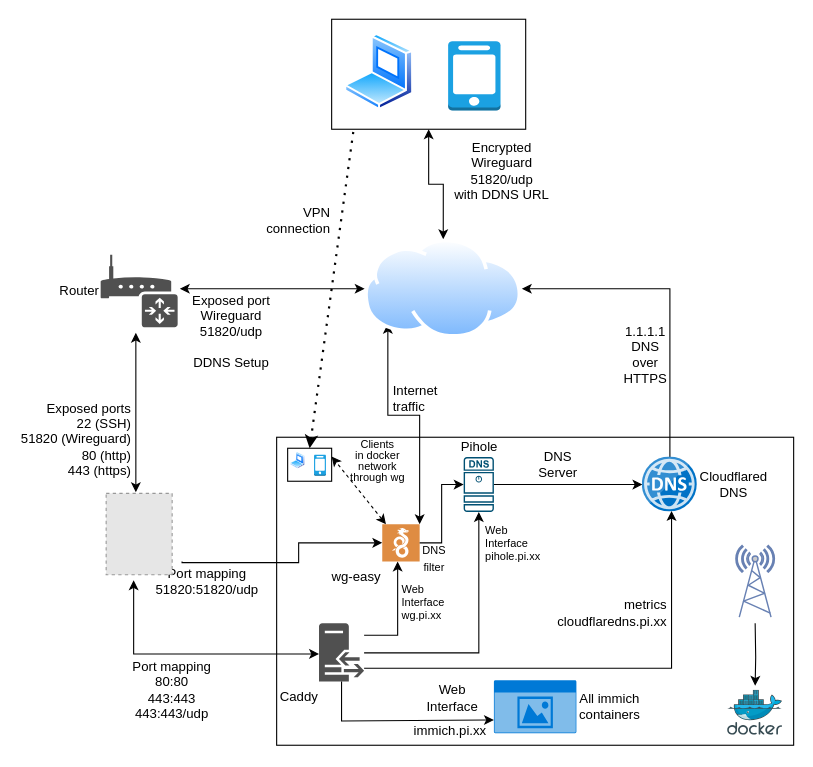
Image size: 813x767. Some labels were removed from this diagram. Grey dashed boxes stand in for pictures. The shapes that lost their labels are listed below. From the top down, each one's box as (x1, y1, x2, y2) in pixels, then its label:
(364, 239, 521, 338): Internet DDNS
(734, 544, 775, 618): Watchtower
(493, 680, 576, 733): IMMICH
